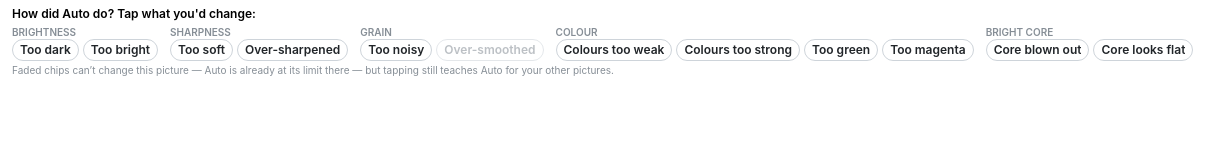
Test: AutoFeedback — the note after a tap › shows the narrowed note once the run-scoped read answers
Expected: the text "Faded chips can.t change this picture" is shown, [12, 64, 614, 76]
Click the button "Over-smoothed" at (490, 50), box [436, 39, 544, 61]
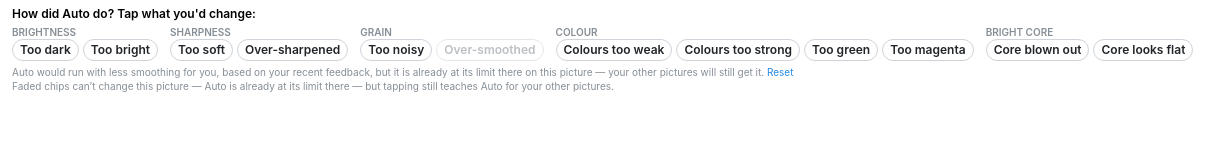
Expected: the text "would run with less smoothing" is shown, [12, 66, 764, 78]
Expected: the button "Reset" is shown, [767, 67, 794, 77]
